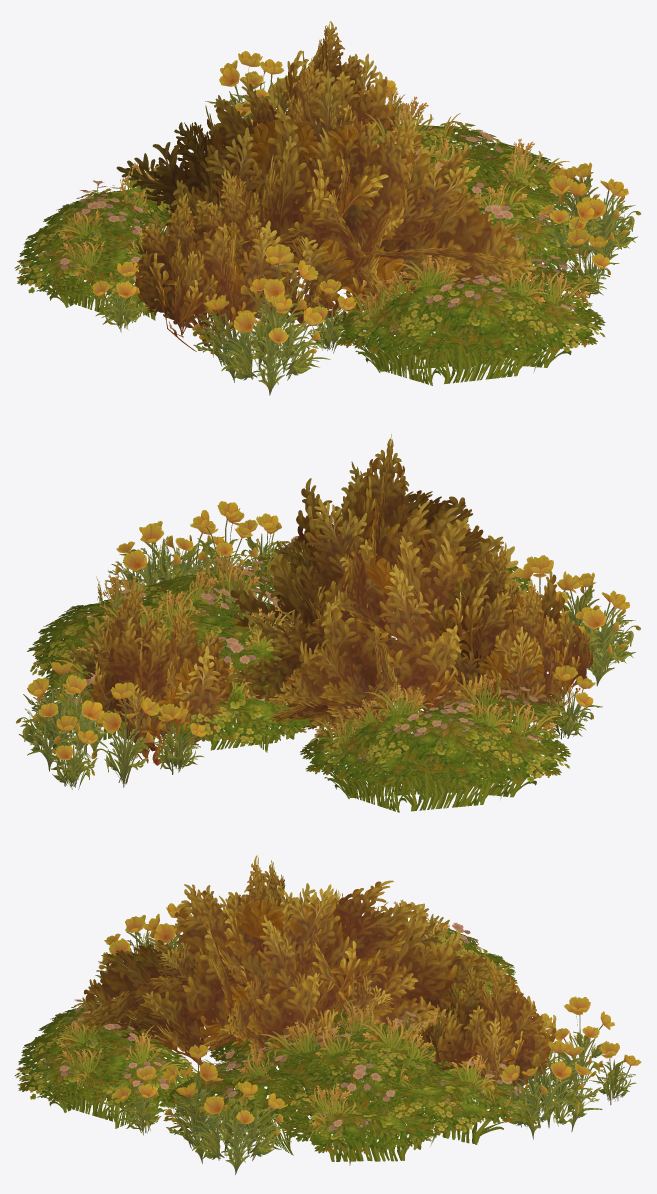
The picture shows the model from 3 angles, top to bottom: view 1: azimuth 30°, elevation 25°; view 2: azimuth 150°, elevation 25°; view 3: azimuth 270°, elevation 25°; orthographic projection. The views are drawn at different scales.
Bounding box in the file's own units: 12.15 × 5.11 × 13.5.
Materials: 3 (3 with a texture image).
